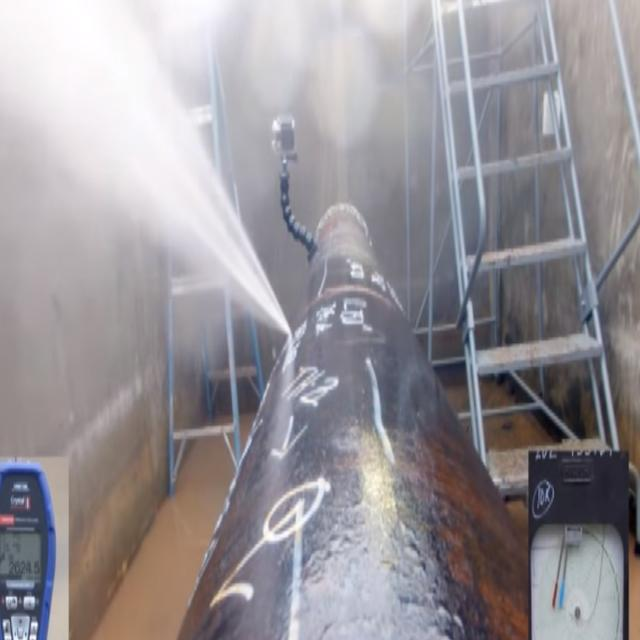leak: (0, 2, 289, 334)
